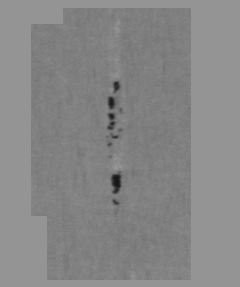oxl: (35, 10, 205, 277)
